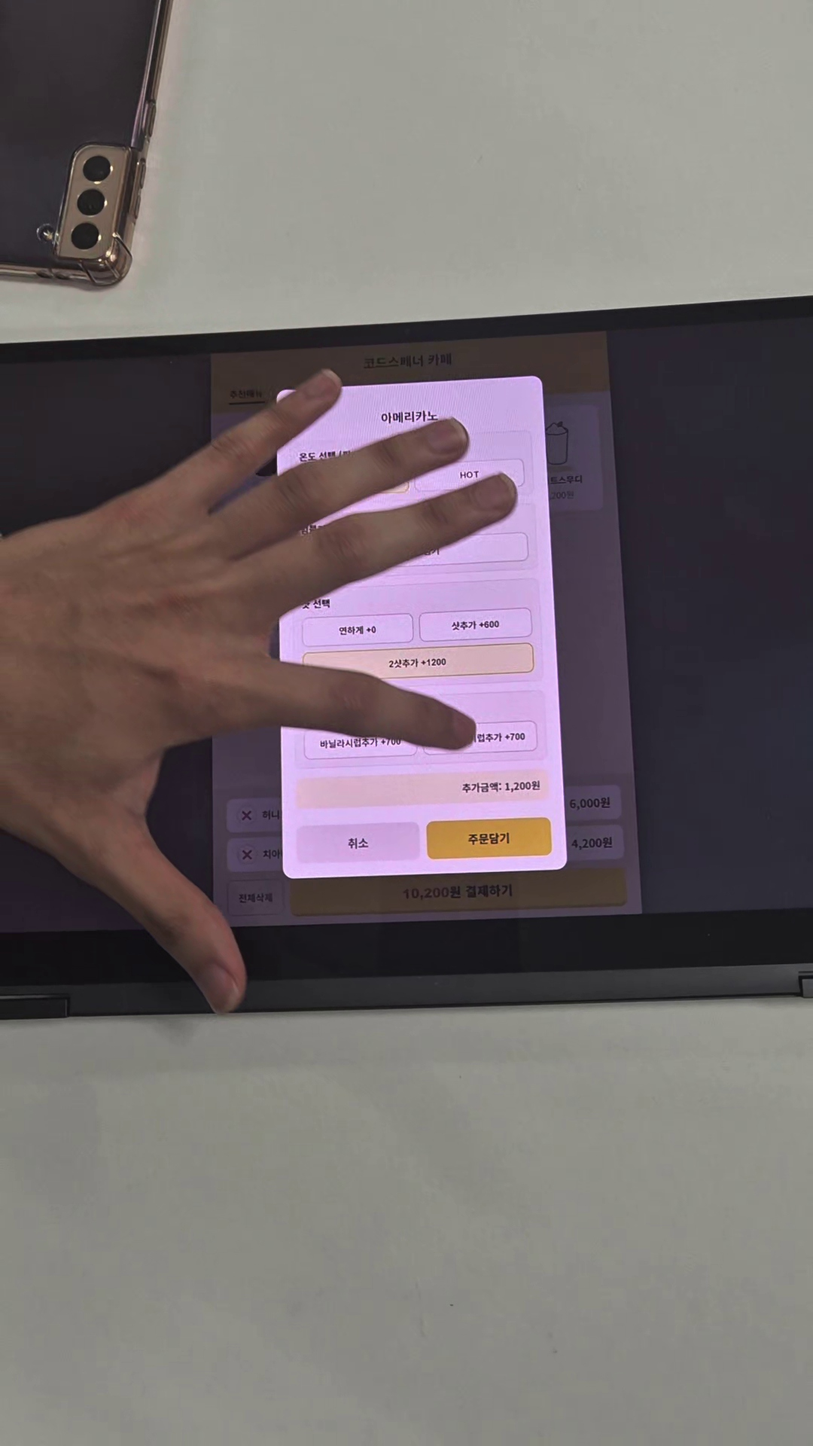action_button: (293, 869, 626, 913), (426, 817, 552, 859), (296, 821, 420, 863), (228, 879, 281, 913)
menu_name: (379, 409, 439, 427)
option_button: (302, 643, 534, 681), (422, 720, 538, 755), (419, 607, 532, 641), (304, 726, 417, 759), (302, 613, 414, 646), (414, 459, 524, 492)
popup_modal: (277, 376, 568, 879)
